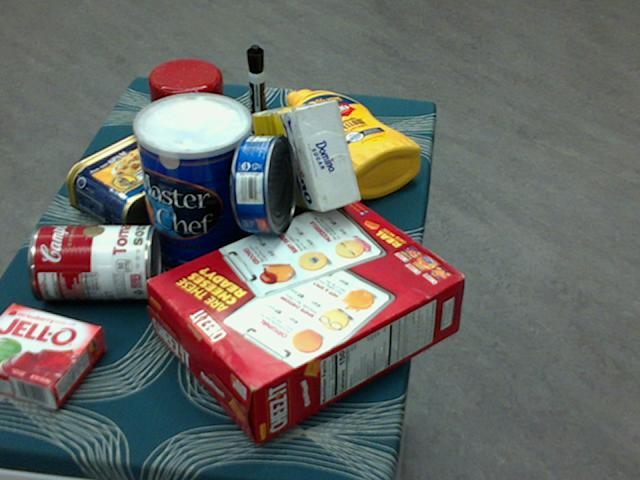cracker_box: (146, 193, 465, 443)
gelatin_box: (0, 301, 105, 409)
large_marker: (246, 44, 267, 148)
master_chef_can: (133, 94, 255, 280)
mug: (147, 59, 231, 160)
mustard_bottle: (285, 88, 420, 199)
potted_meat_can: (65, 135, 198, 237)
sugar_box: (248, 102, 360, 212)
tomato_soup_can: (27, 221, 159, 300)
tuna_fish_can: (230, 133, 296, 232)
